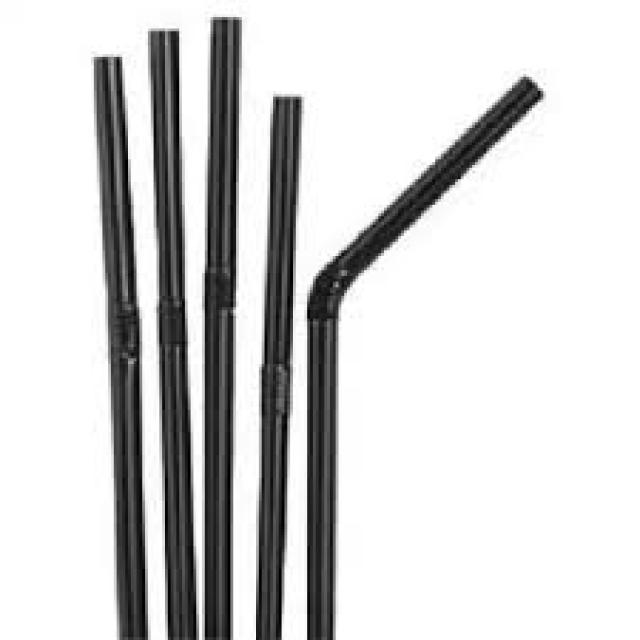straw: (308, 78, 541, 639), (153, 31, 198, 639), (99, 58, 146, 639), (256, 96, 301, 640), (204, 18, 240, 639)
